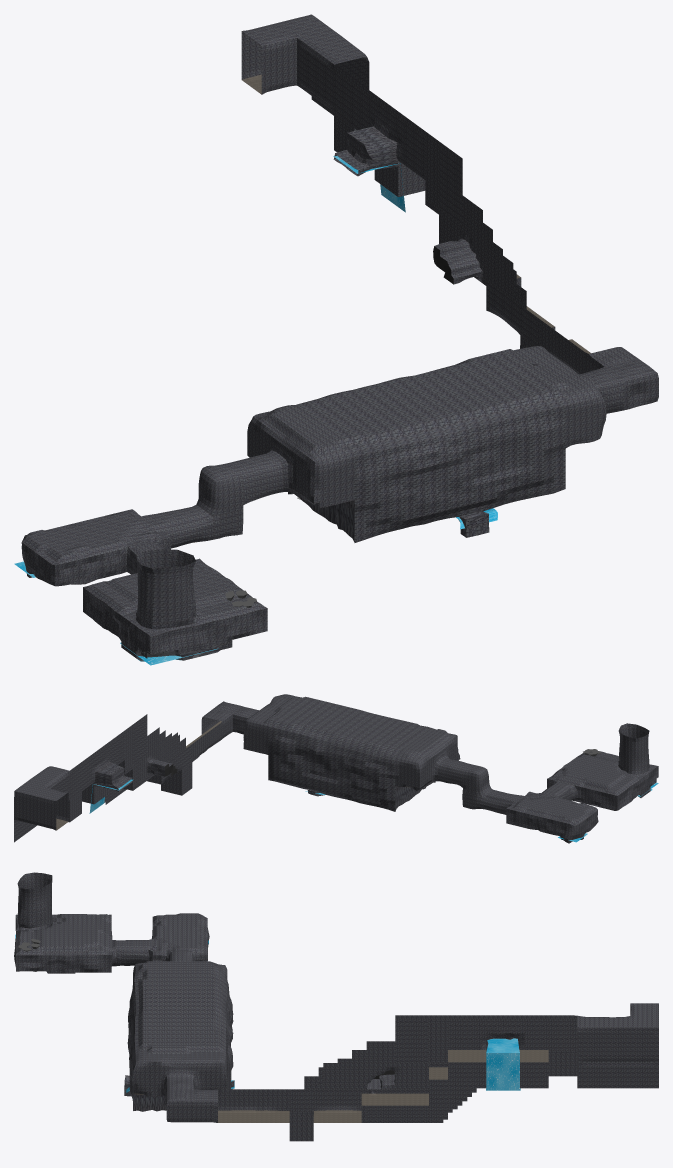
Rendered from Mapa 1 (2).glb.
3 views of the same model, one above another, from view 1: azimuth 30°, elevation 25°; view 2: azimuth 150°, elevation 25°; view 3: azimuth 270°, elevation 25° (orthographic). The views are drawn at different scales.
Parts seen in each view (by area): view 1: p1; view 2: p1; view 3: p1, Agua 4.
Boxes of the visible parts, x1=… form: p1: x1=21, y1=14, x2=658, y2=661; p1: x1=14, y1=694, x2=658, y2=843; p1: x1=14, y1=872, x2=658, y2=1141; Agua 4: x1=486, y1=1038, x2=520, y2=1090.
Size of what is drawn, in the model's own units: 105 by 31.75 by 135.
10 materials, 9 textured.
